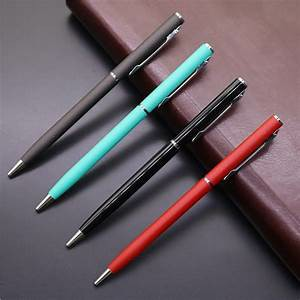pen: (95, 119, 277, 284), (69, 79, 242, 245), (37, 44, 210, 208), (7, 14, 179, 178)
